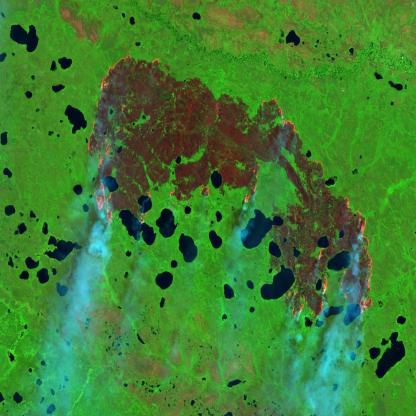fire: (88, 44, 134, 157), (342, 193, 375, 316), (262, 90, 302, 139), (92, 158, 116, 221), (169, 174, 214, 206), (285, 285, 308, 328), (316, 242, 328, 318), (135, 183, 155, 226), (244, 161, 261, 205), (306, 156, 325, 174)
